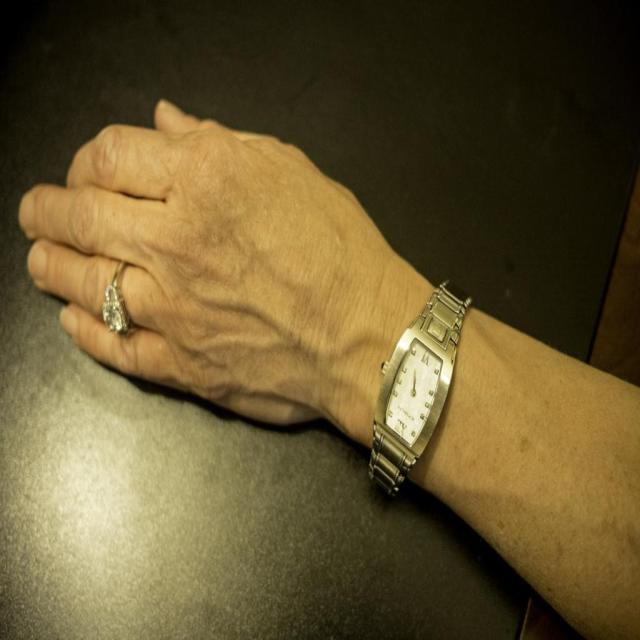Wrist watch: (366, 278, 471, 500)
